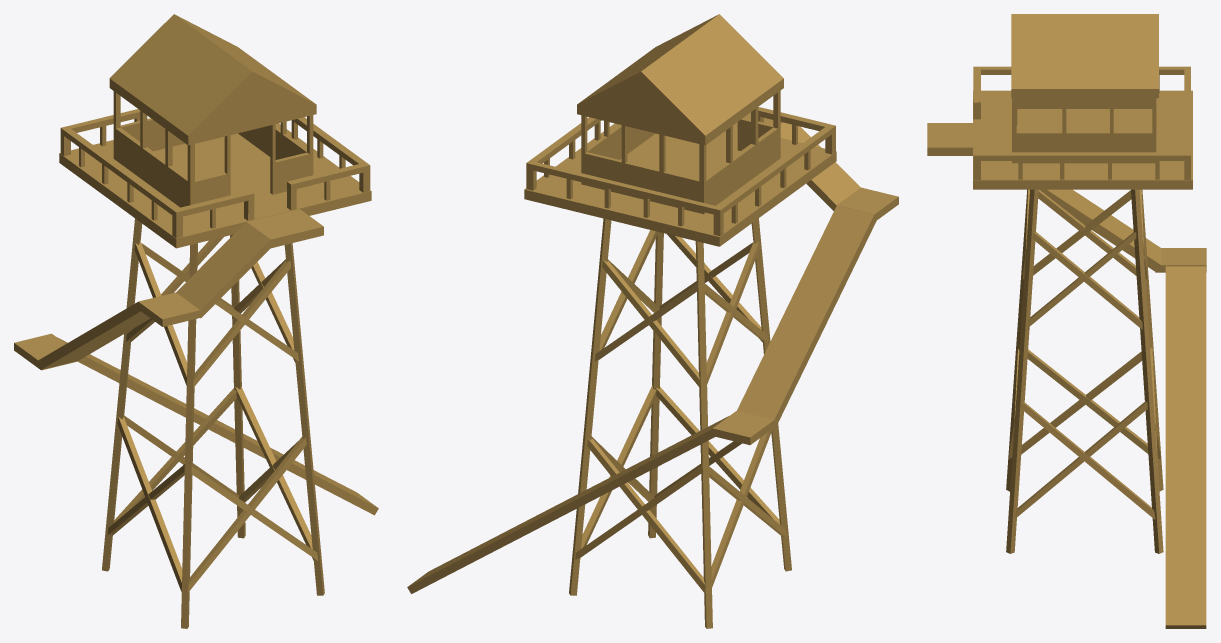
File: FireTower.fbx
3 renders of one model, left to right at view 1: azimuth 30°, elevation 25°; view 2: azimuth 150°, elevation 25°; view 3: azimuth 270°, elevation 25°, orthographic. The views are drawn at different scales.
Parts seen in each view (by area): view 1: Cube.041; view 2: Cube.041; view 3: Cube.041.
Boxes of the visible parts, bbox=[...] form: Cube.041: bbox=[14, 14, 378, 628]; Cube.041: bbox=[407, 14, 898, 628]; Cube.041: bbox=[927, 14, 1206, 628].
Size of the model in its own units: 3047 by 4701 by 2284.
